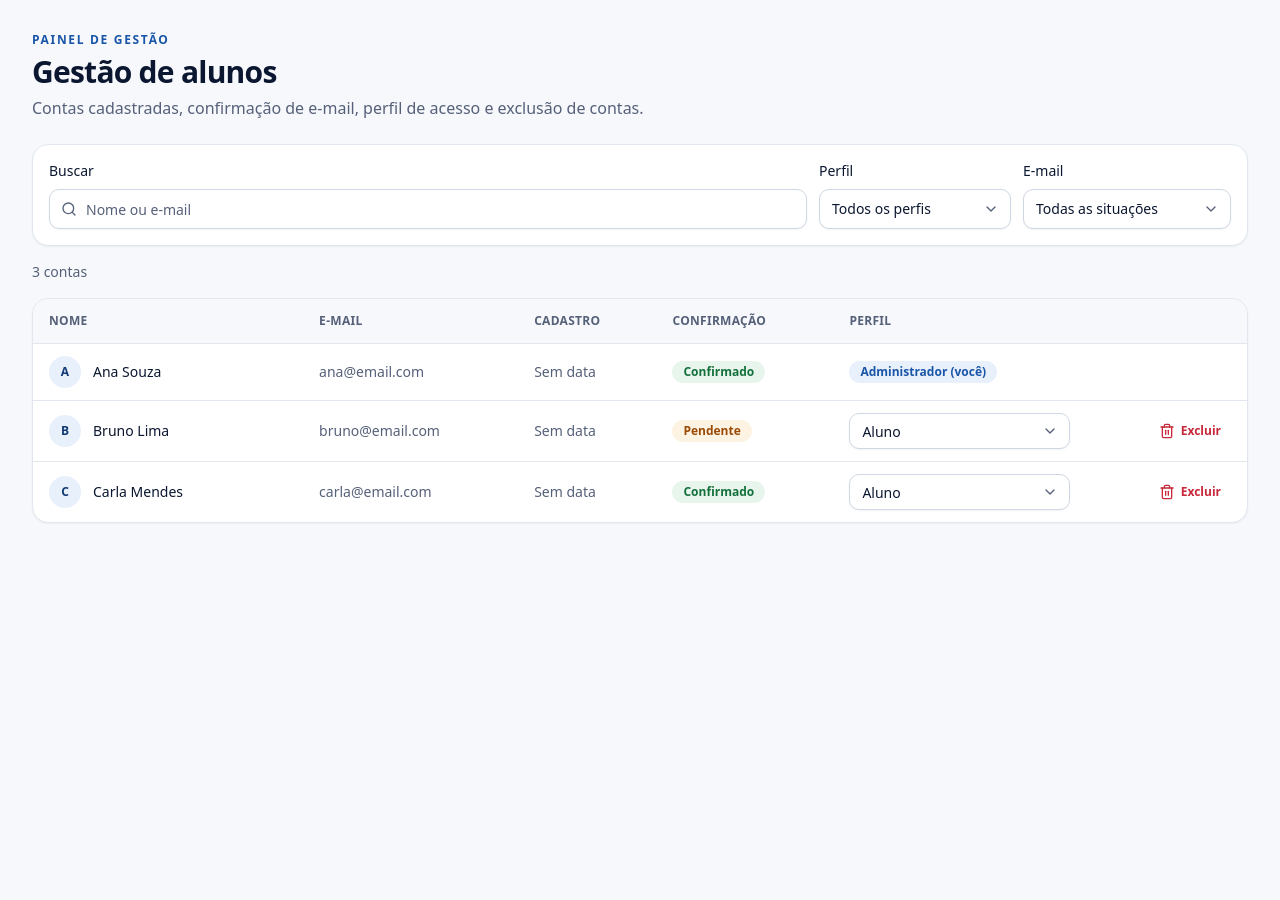
Scenario: TelaAdminAlunos › troca o perfil so depois de confirmar
Select "Administrador" in the dropdown named "Perfil de Bruno Lima" at [960, 430], box [849,412,1070,448]
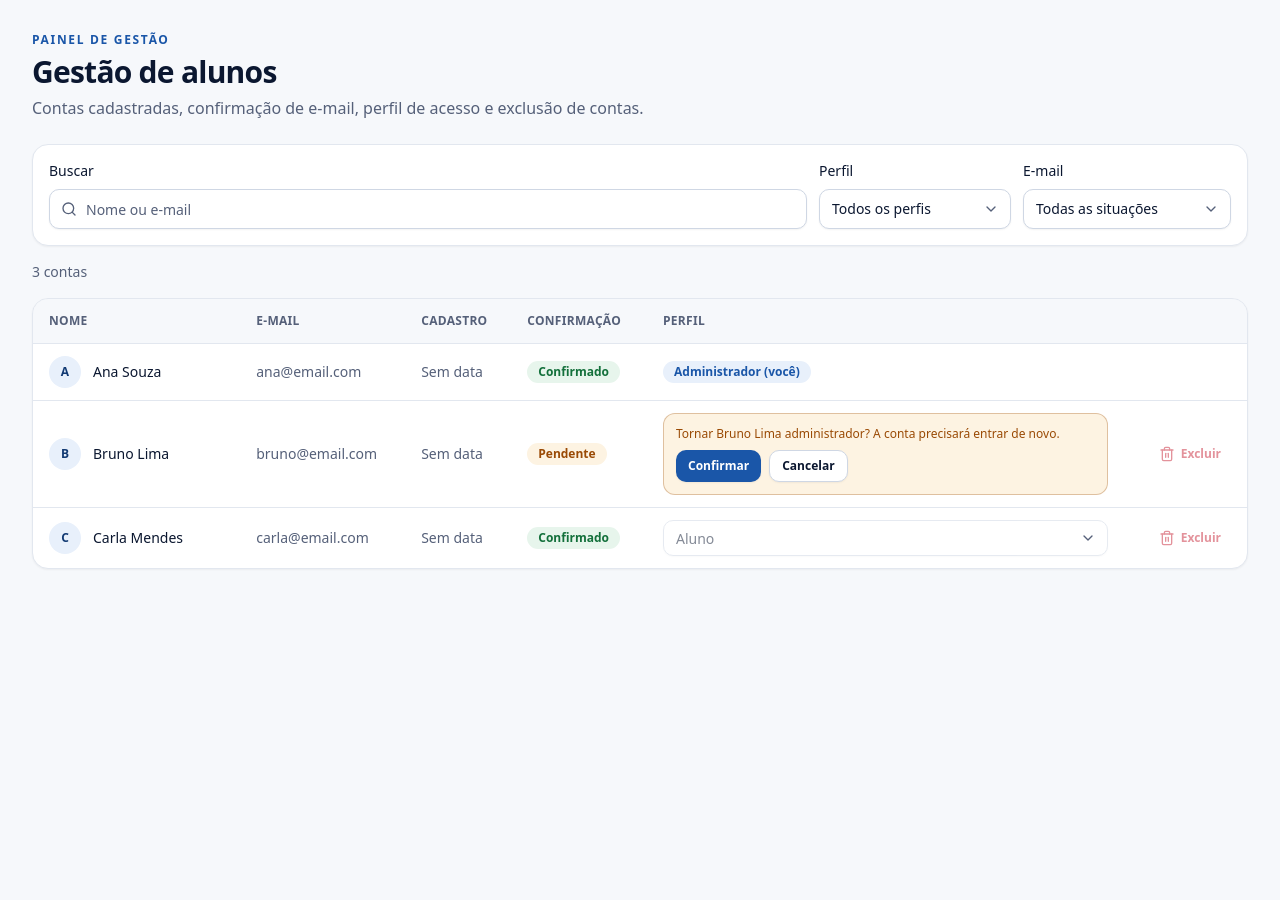
Result: the element named "Confirmar troca de perfil de Bruno Lima" shows "A conta precisará entrar de novo." at [865,424,1060,442]
Click the button "Confirmar" at [719, 466], box [676,450,761,482]
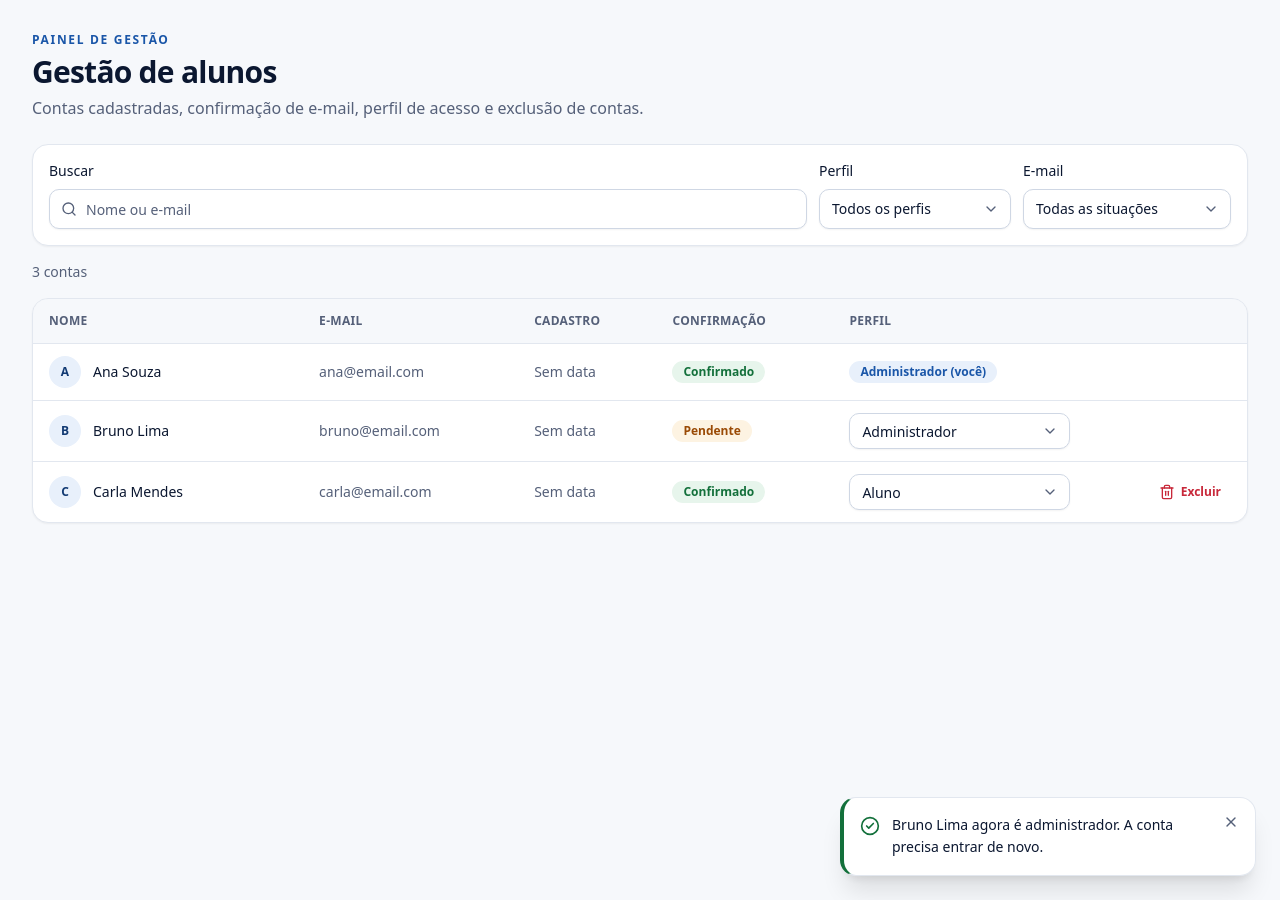
Result: the text "Bruno Lima agora é administrador" is shown at [892,814,1173,856]
Result: the dropdown named "Perfil de Bruno Lima" shows "Administrador" at [849,412,1070,448]
